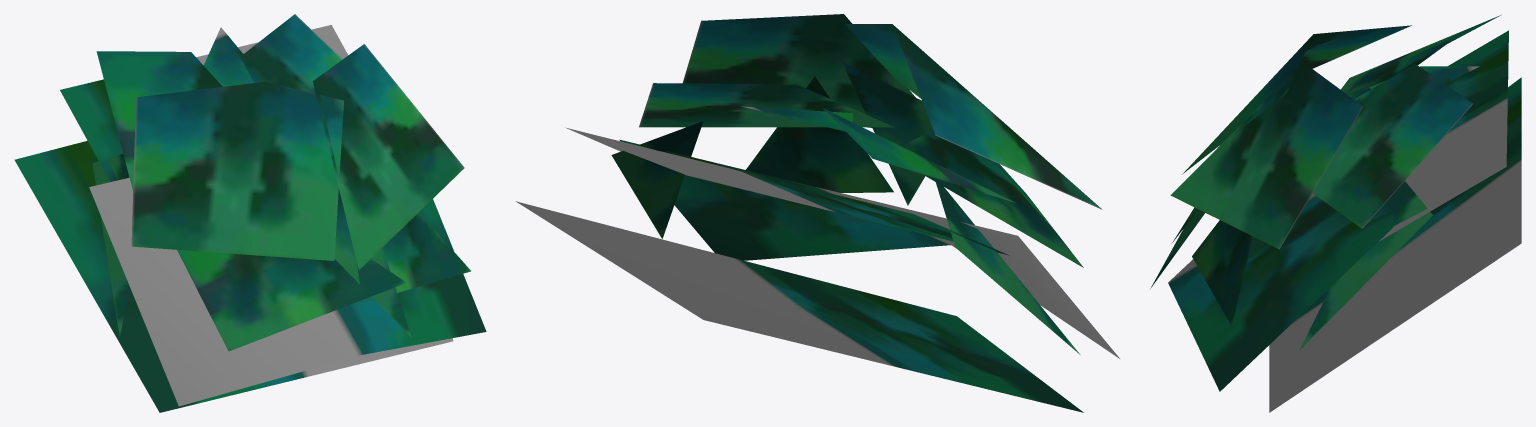
The model's file is fg_bushA_2.dae.
3 renders of one model, left to right at view 1: azimuth 30°, elevation 25°; view 2: azimuth 150°, elevation 25°; view 3: azimuth 270°, elevation 25°, orthographic. The views are drawn at different scales.
Parts seen in each view (by area): view 1: fg_bushA_2; view 2: fg_bushA_2; view 3: fg_bushA_2.
Part boxes in pixels (x1=…): fg_bushA_2: x1=14, y1=14, x2=486, y2=412; fg_bushA_2: x1=515, y1=14, x2=1119, y2=412; fg_bushA_2: x1=1150, y1=15, x2=1521, y2=412.
Size of the model in its own units: 42.31 by 33.77 by 38.68.
1 material, 1 textured.
